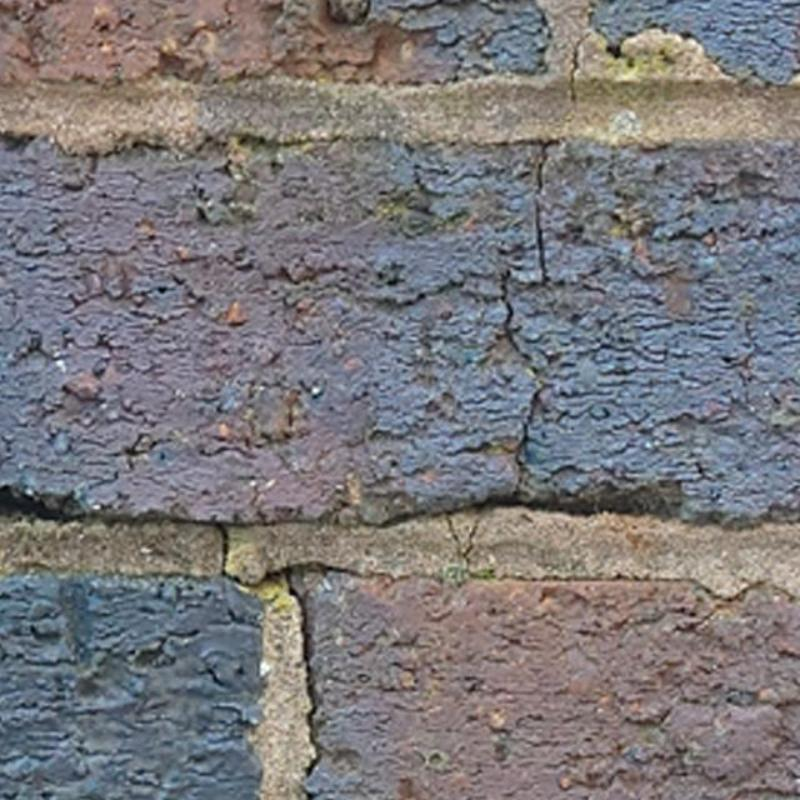pothole: (500, 269, 551, 504), (284, 566, 322, 799), (217, 524, 280, 588), (532, 139, 558, 286), (570, 31, 592, 101), (464, 516, 482, 574), (446, 511, 459, 541)
